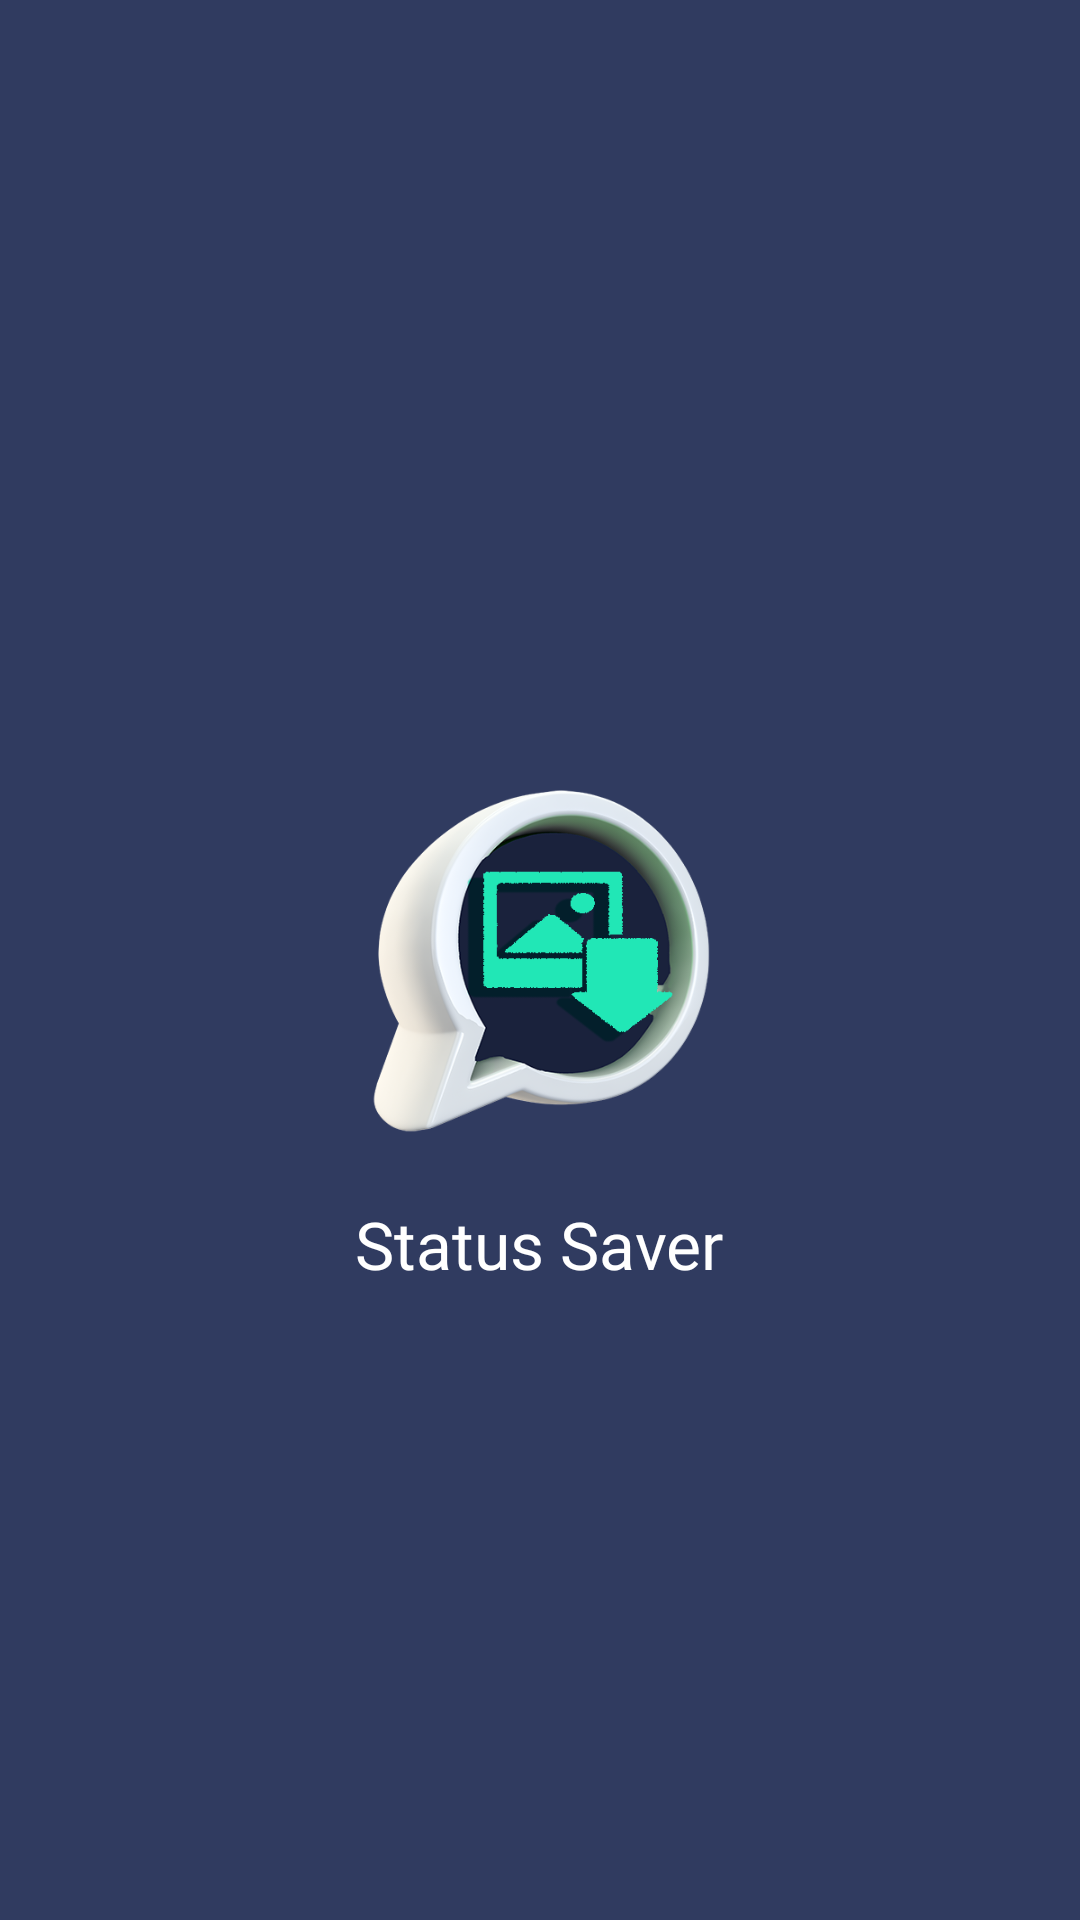

Named icons in this screenshot (1080*1920) and their centers, (x,y):
whatsappstatusapp: (541,961)
